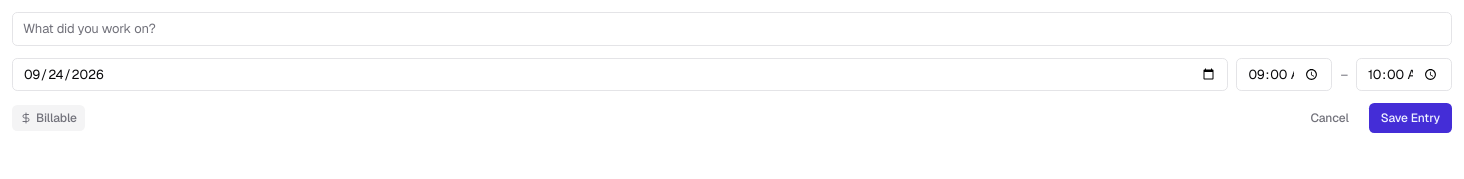
Test: ManualTimeEntryForm › should show error message when API returns error
The width and height of the screenshot is (1464, 179).
# Submit with valid data (default times 09:00 - 10:00 are valid)
Step 1. Click the button "Save Entry" → (1410, 118), box x1=1369 y1=103 x2=1452 y2=133
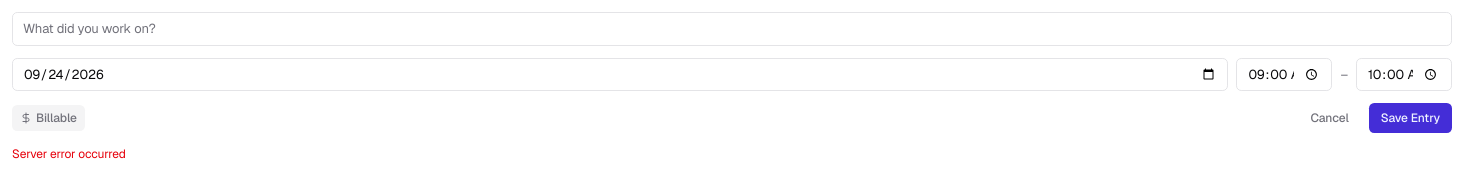
expect the text "Server error occurred" is shown: met, box x1=12 y1=146 x2=126 y2=162
